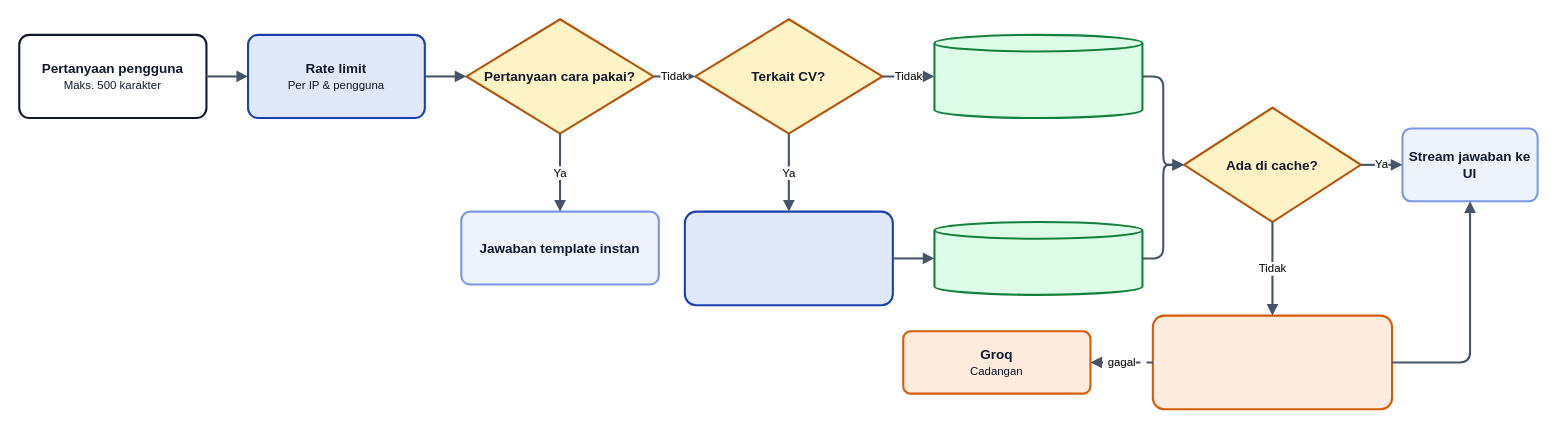
This 1556x427 diagram has some shape labels left out. The box of each missing label's shape, as (x1, y1, x2, y2) in pixels:
Cache analisis CV Per pengguna: (933, 220, 1143, 295)
Cache pengetahuan lowongan: (933, 33, 1143, 119)
Cek login & CV aktif Hitung kecocokan langsung: (683, 210, 893, 306)
Prompt berbasis data Lowongan + CV + aturan; Gemini (stream): (1151, 314, 1393, 410)
